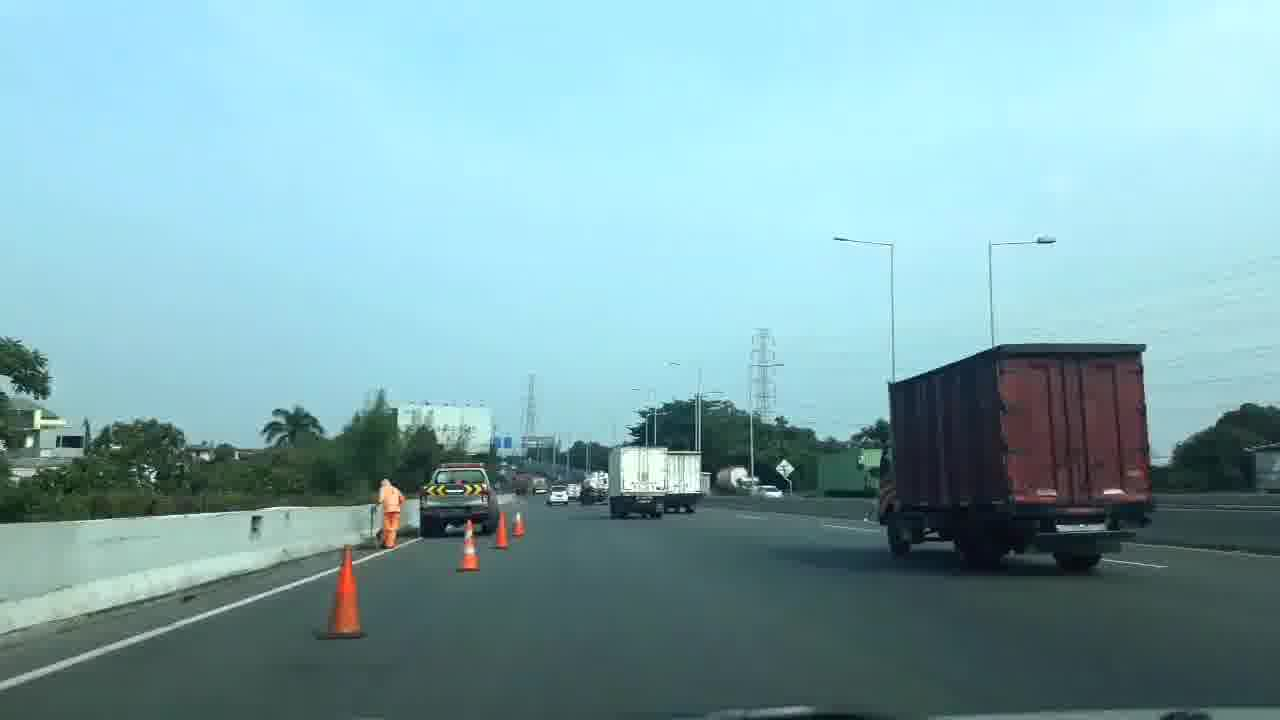plate_positive: (1054, 518, 1107, 532)
